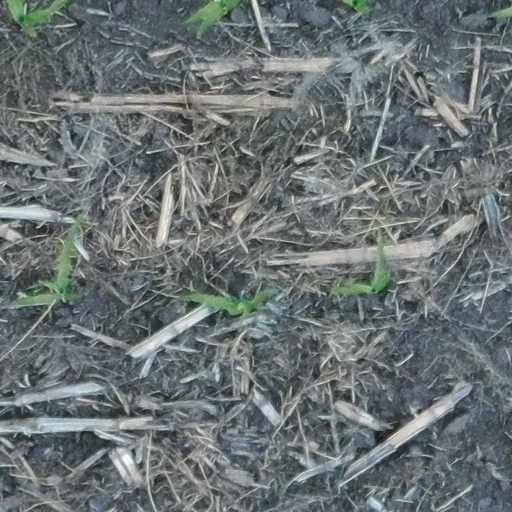planta: (16, 213, 84, 305), (331, 230, 389, 294), (171, 289, 272, 321)
